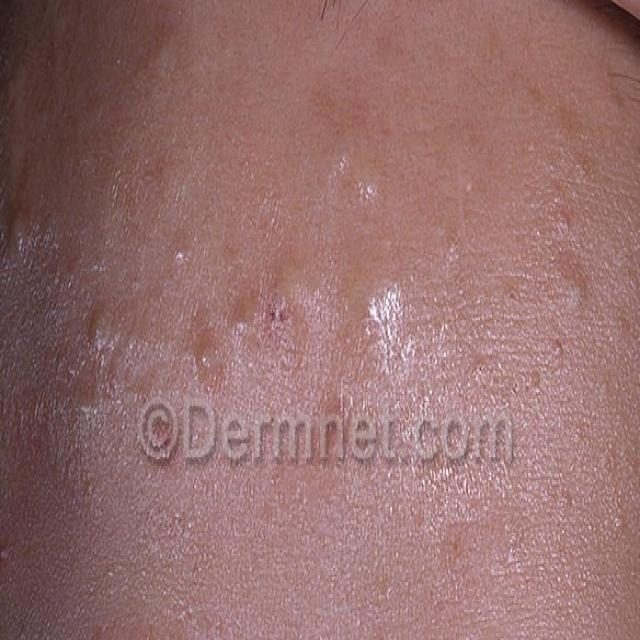Acne: (154, 198, 299, 391), (299, 94, 403, 220), (337, 262, 431, 369), (74, 299, 152, 400), (130, 16, 196, 104), (545, 222, 596, 325), (467, 348, 554, 405), (0, 187, 58, 268), (0, 528, 34, 577), (609, 492, 634, 554)
